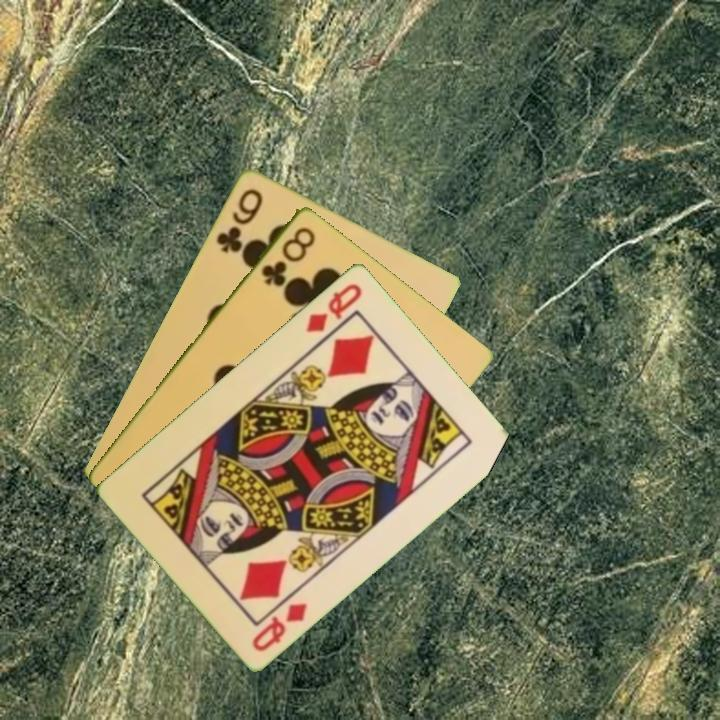8c: (257, 222, 319, 289)
9c: (212, 184, 266, 256)
Qd: (302, 279, 365, 335), (248, 598, 311, 654)
